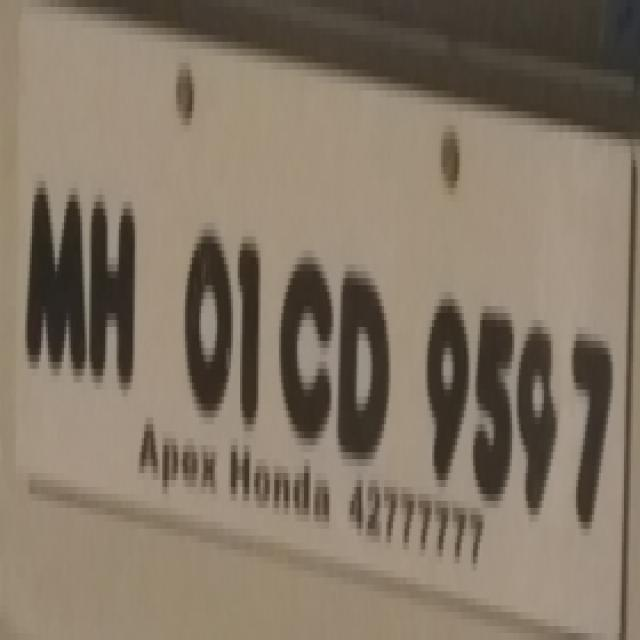0: (178, 214, 234, 418)
1: (230, 226, 268, 429)
5: (472, 304, 518, 512)
7: (568, 325, 616, 545)
9: (423, 284, 474, 488), (516, 312, 564, 508)
C: (274, 242, 337, 443)
D: (335, 258, 393, 467)
H: (88, 176, 140, 395)
M: (20, 149, 89, 383)
